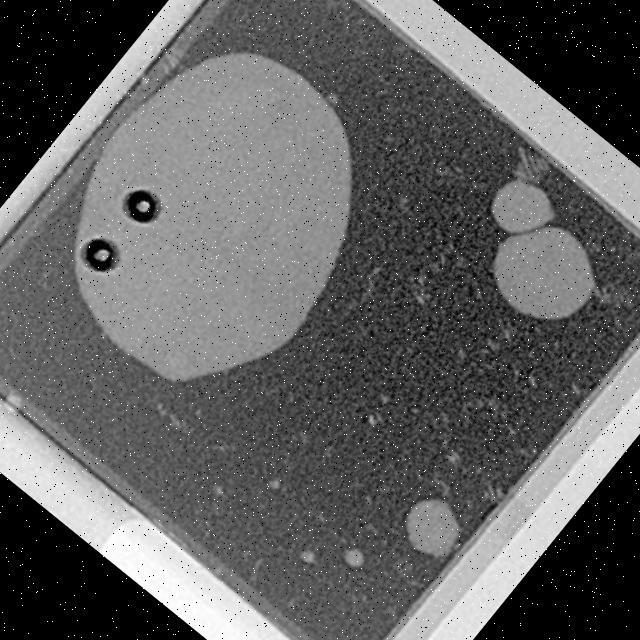chip: (0, 0, 640, 640)
void: (76, 52, 352, 381), (491, 177, 596, 318), (405, 497, 462, 557), (344, 548, 364, 566)
